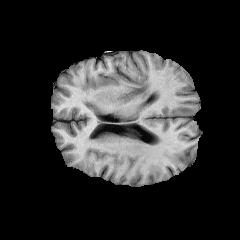glioma: (110, 82, 153, 117)
